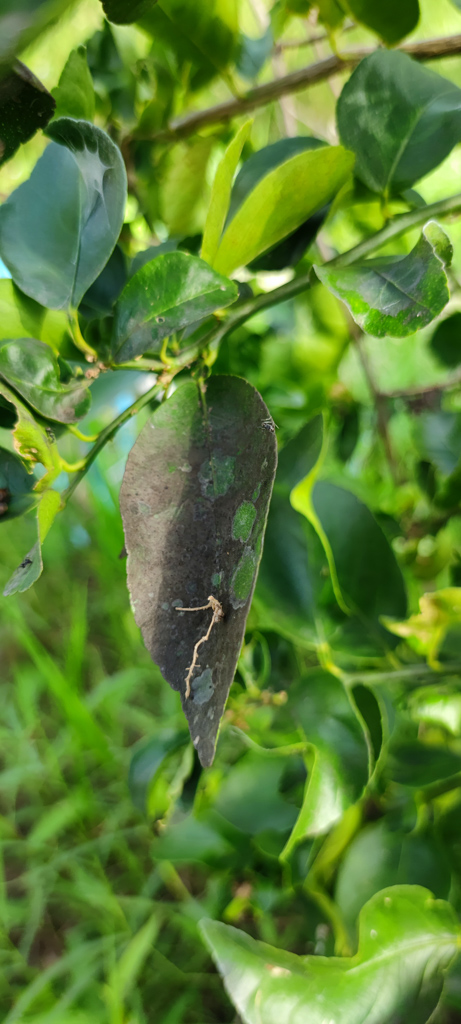Sooty mold: (112, 403, 284, 773), (123, 309, 171, 352), (50, 390, 92, 421)
